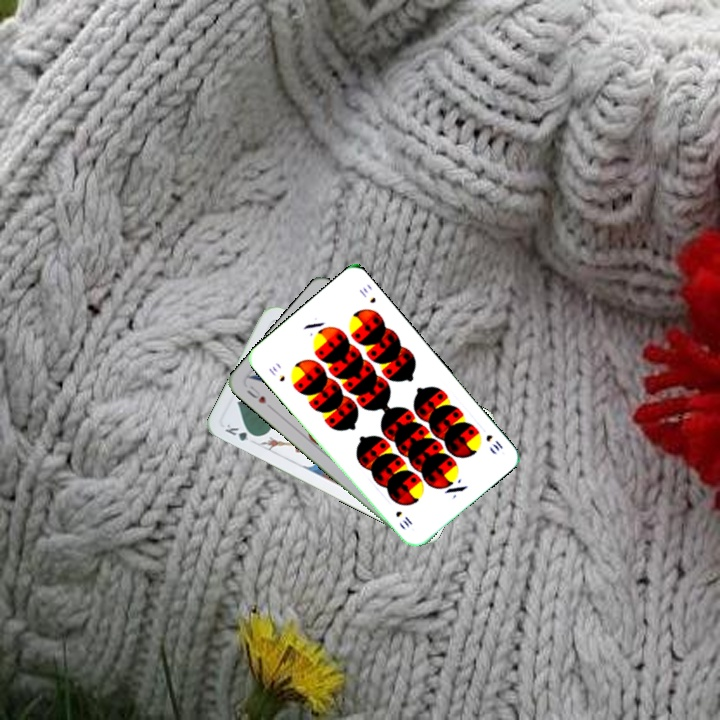GK: (221, 420, 260, 445)
HU: (243, 381, 269, 406)
S10: (482, 430, 506, 454), (264, 362, 288, 384)
